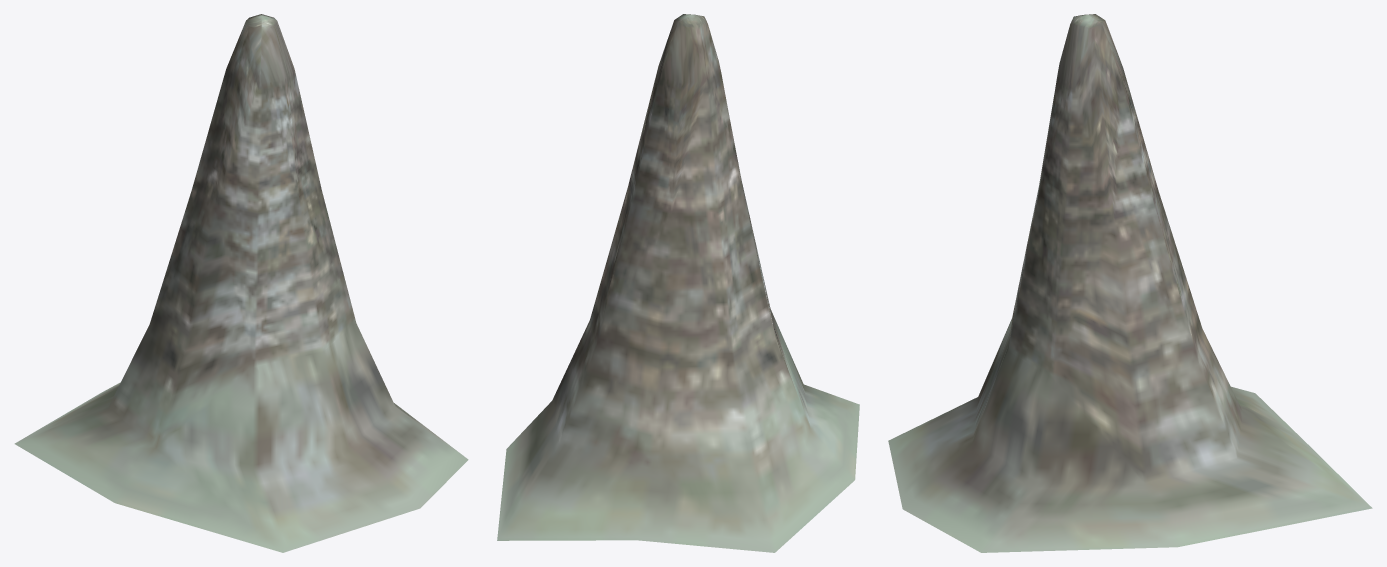
Rendered from TROLLHOLE02_PS-MAINSTALAG47.fbx.
3 renders of one model, left to right at view 1: azimuth 30°, elevation 25°; view 2: azimuth 150°, elevation 25°; view 3: azimuth 270°, elevation 25°, orthographic. The views are drawn at different scales.
Parts seen in each view (by area): view 1: TROLLHOLE02_PS-MAINSTALAG47; view 2: TROLLHOLE02_PS-MAINSTALAG47; view 3: TROLLHOLE02_PS-MAINSTALAG47.
Part boxes in pixels (left/top/right/bottom): TROLLHOLE02_PS-MAINSTALAG47: left=14, top=14, right=468, bottom=552; TROLLHOLE02_PS-MAINSTALAG47: left=497, top=14, right=859, bottom=552; TROLLHOLE02_PS-MAINSTALAG47: left=888, top=14, right=1372, bottom=552.
Size of the model in its own units: 23165 by 30822 by 29194.
Materials: 1 (1 with a texture image).
